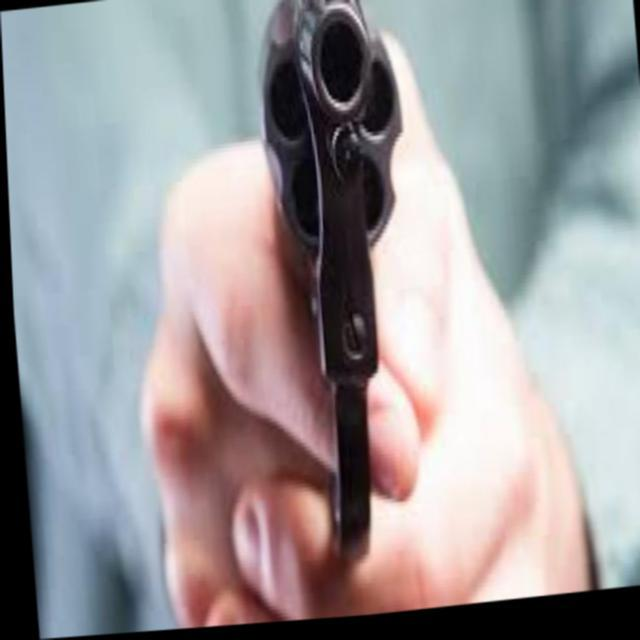weapon: (246, 0, 431, 571)
